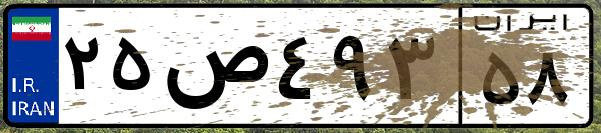2: (57, 26, 110, 100)
3: (385, 28, 445, 110)
4: (270, 28, 330, 110)
5: (475, 38, 525, 113), (110, 28, 158, 98)
8: (525, 38, 570, 115)
9: (330, 28, 385, 110)
ص: (158, 20, 270, 120)
